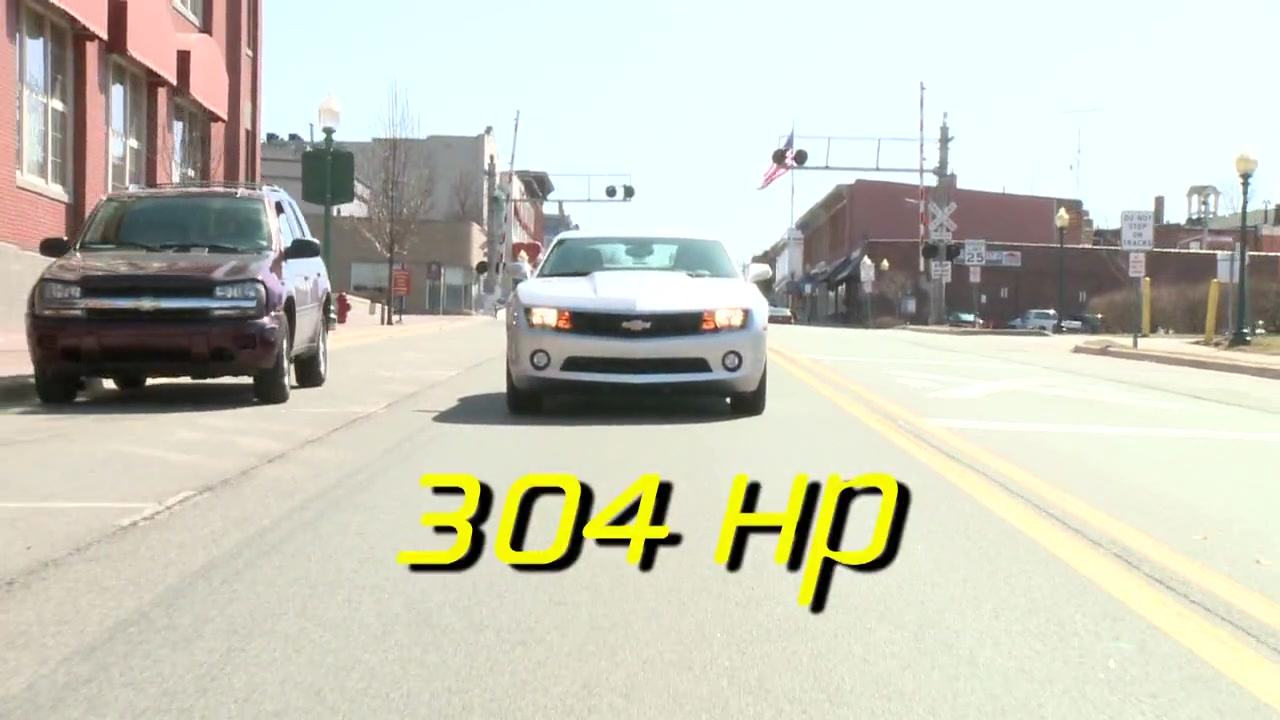car: (503, 230, 777, 419)
